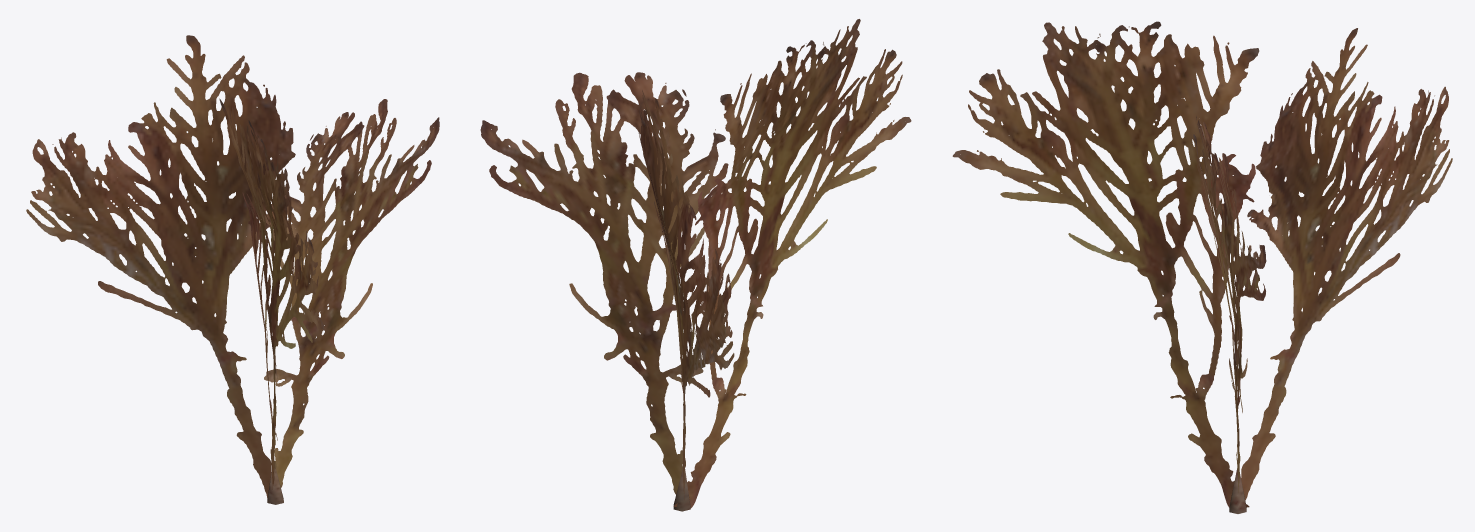
File: seaweed_1_4.FBX
The picture shows the model from 3 angles, left to right: view 1: azimuth 30°, elevation 25°; view 2: azimuth 150°, elevation 25°; view 3: azimuth 270°, elevation 25°; orthographic projection. The views are drawn at different scales.
Visible parts, largest first — view 1: seaweed_1_04; view 2: seaweed_1_04; view 3: seaweed_1_04.
Boxes of the visible parts, bbox=[...] form: seaweed_1_04: bbox=[26, 35, 439, 504]; seaweed_1_04: bbox=[480, 19, 911, 511]; seaweed_1_04: bbox=[952, 21, 1452, 513].
Bounding box in the file's own units: 17.93 × 23.22 × 21.89.
Materials: 1 (1 with a texture image).
